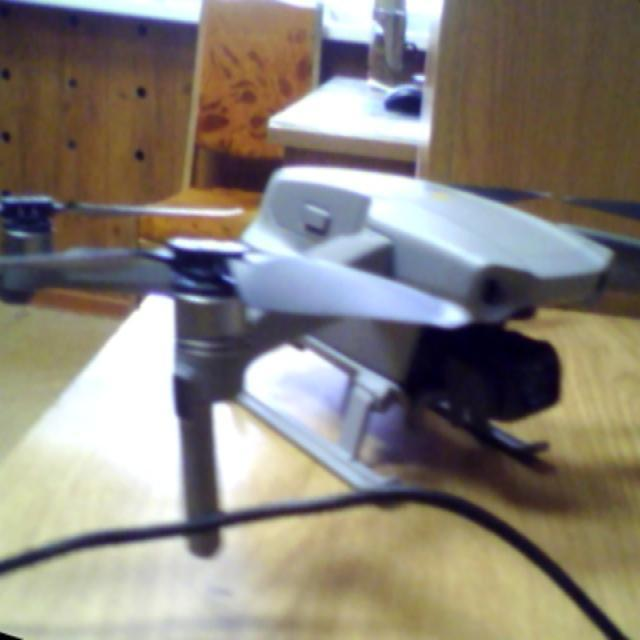drone: (10, 143, 640, 555)
